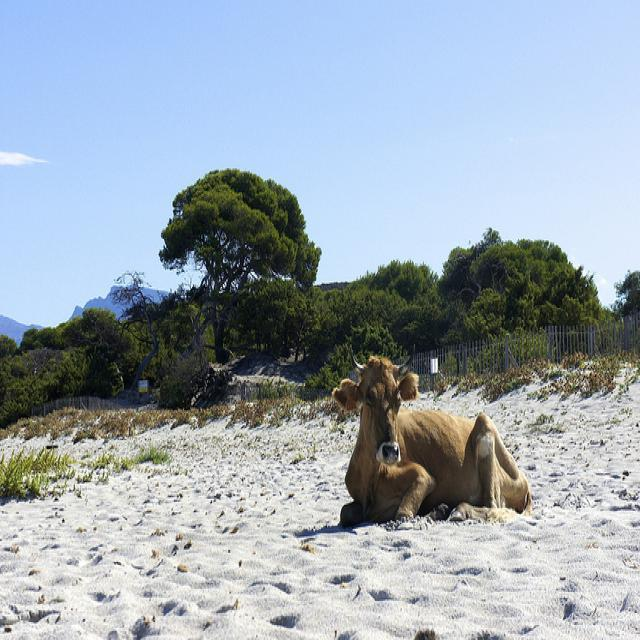cow: (331, 351, 532, 526)
